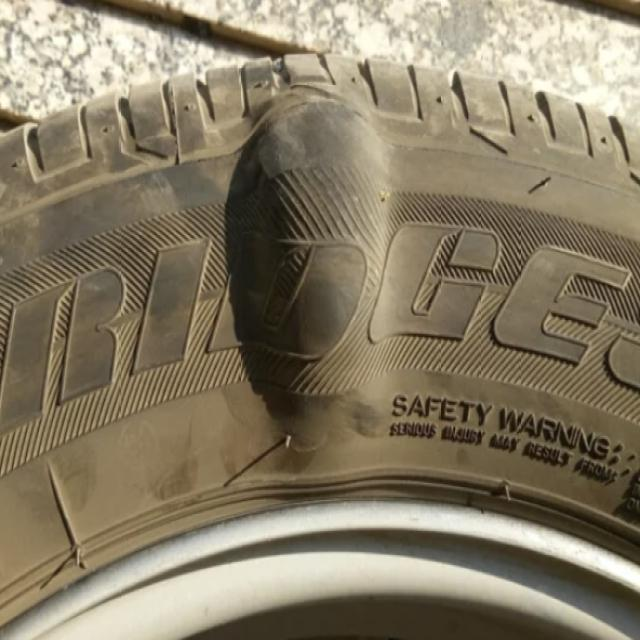Bulge: (215, 87, 404, 464)
